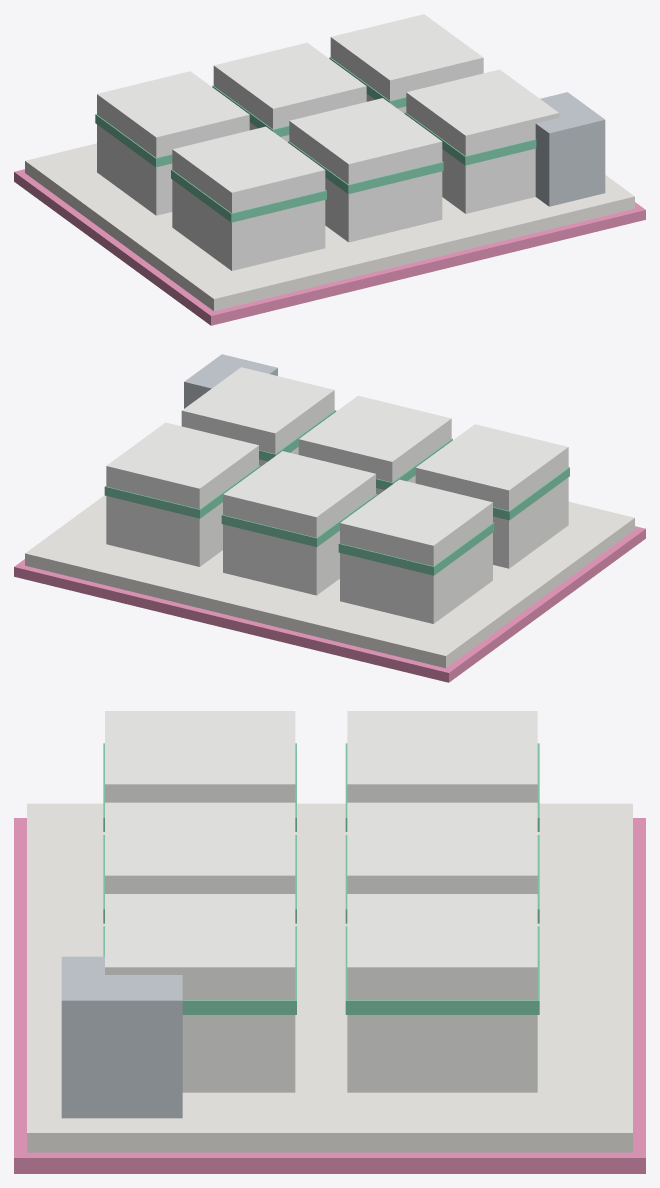
File: storage_low.glb
The picture shows the model from 3 angles, top to bottom: view 1: azimuth 30°, elevation 25°; view 2: azimuth 150°, elevation 25°; view 3: azimuth 270°, elevation 25°; orthographic projection. The views are drawn at different scales.
Visible parts, largest first — view 1: battery, base, rim_e0588f, metal, battery_accent; view 2: battery, base, rim_e0588f, battery_accent, metal; view 3: battery, base, rim_e0588f, metal, battery_accent.
Part boxes in pixels (left/top/right/bottom): battery: left=97, top=14, right=559, bottom=270; base: left=25, top=143, right=634, bottom=311; rim_e0588f: left=14, top=169, right=645, bottom=325; metal: left=535, top=92, right=605, bottom=206; battery_accent: left=95, top=57, right=536, bottom=222; battery: left=106, top=367, right=568, bottom=623; base: left=25, top=495, right=634, bottom=668; rim_e0588f: left=14, top=526, right=645, bottom=682; battery_accent: left=104, top=410, right=569, bottom=575; metal: left=184, top=354, right=277, bottom=408; battery: left=105, top=711, right=537, bottom=1092; base: left=27, top=803, right=632, bottom=1152; rim_e0588f: left=14, top=818, right=645, bottom=1173; metal: left=61, top=956, right=182, bottom=1118; battery_accent: left=103, top=743, right=539, bottom=1014.
Bounding box in the file's own units: 9.3 × 2.05 × 7.3.
